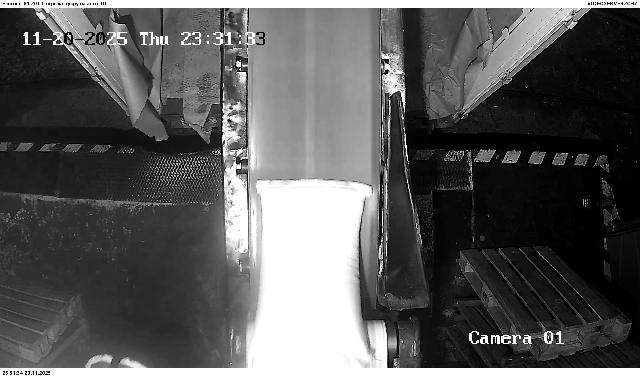bag: (252, 180, 374, 368)
